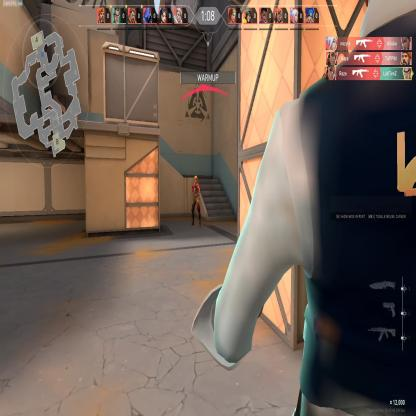enemy: (189, 174, 202, 228)
